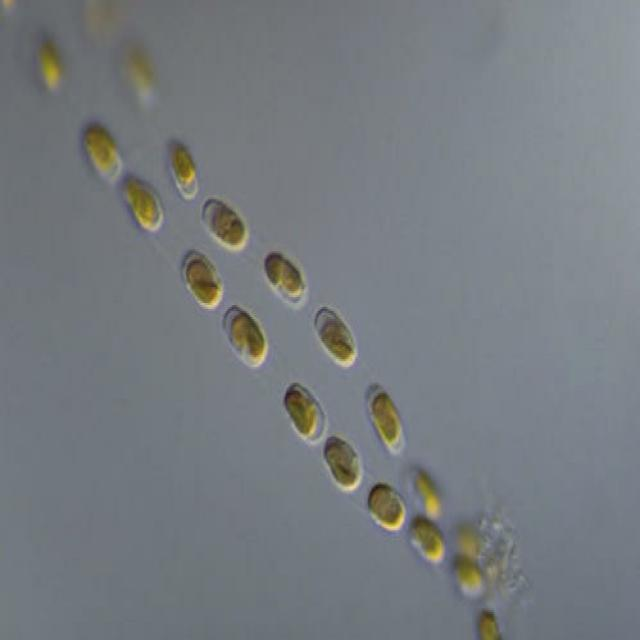Skeletonema: (3, 1, 520, 640), (61, 1, 530, 637)
